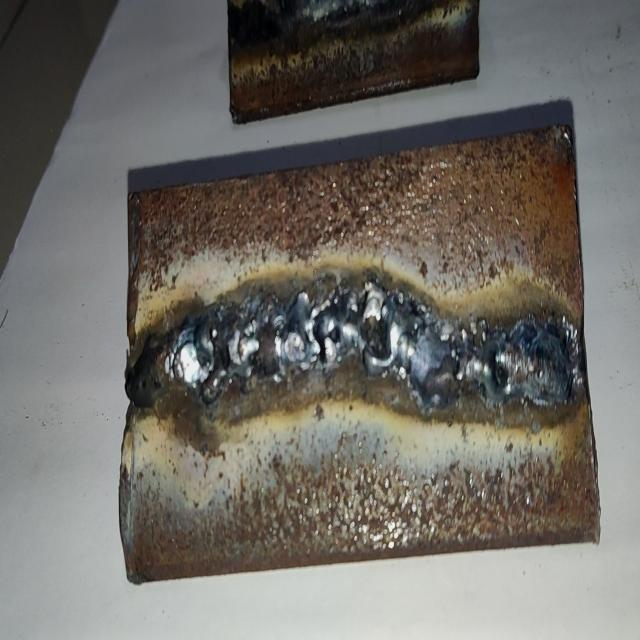Bad Weld: (145, 297, 569, 424)
Defect: (169, 282, 572, 405)
